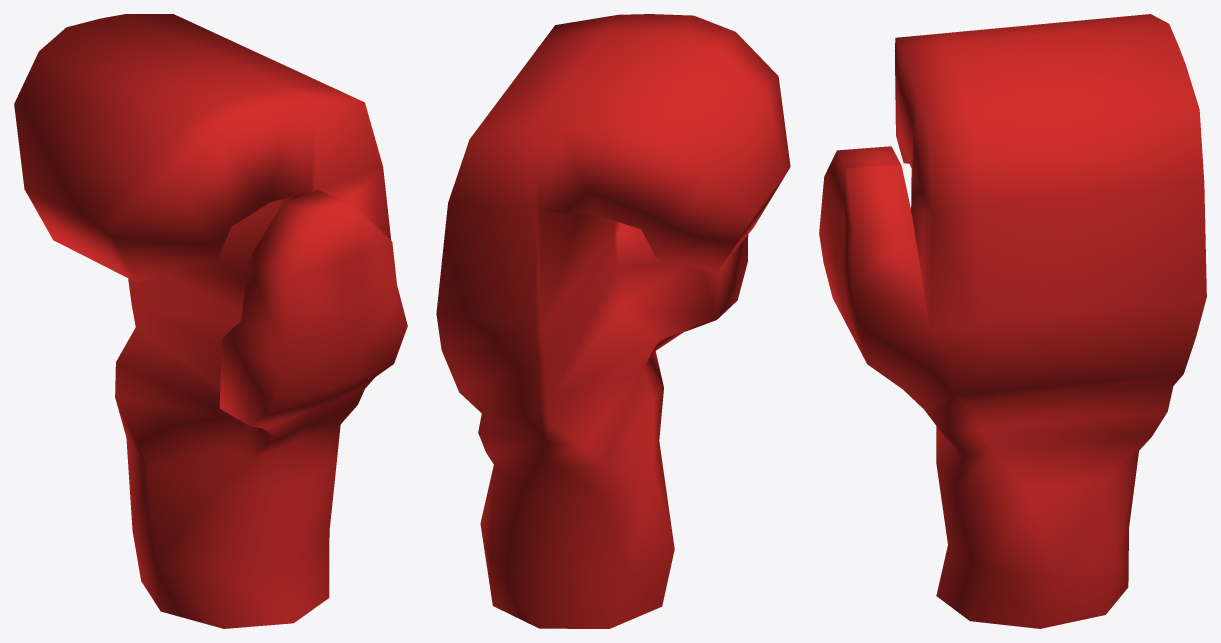
3 renders of one model, left to right at view 1: azimuth 30°, elevation 25°; view 2: azimuth 150°, elevation 25°; view 3: azimuth 270°, elevation 25°, orthographic. The views are drawn at different scales.
Visible parts, largest first — view 1: Cube_015; view 2: Cube_015; view 3: Cube_015.
Boxes of the visible parts, box(x1,y1,x2,y2) form: Cube_015: box(14, 14, 407, 628); Cube_015: box(436, 14, 790, 628); Cube_015: box(819, 14, 1206, 628).
Size of the model in its own units: 2.78 by 3.2 by 4.75.
